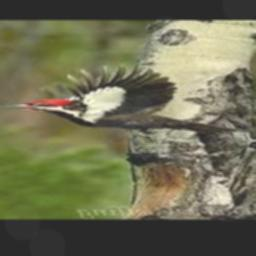Woodpecker: (0, 65, 246, 136)
